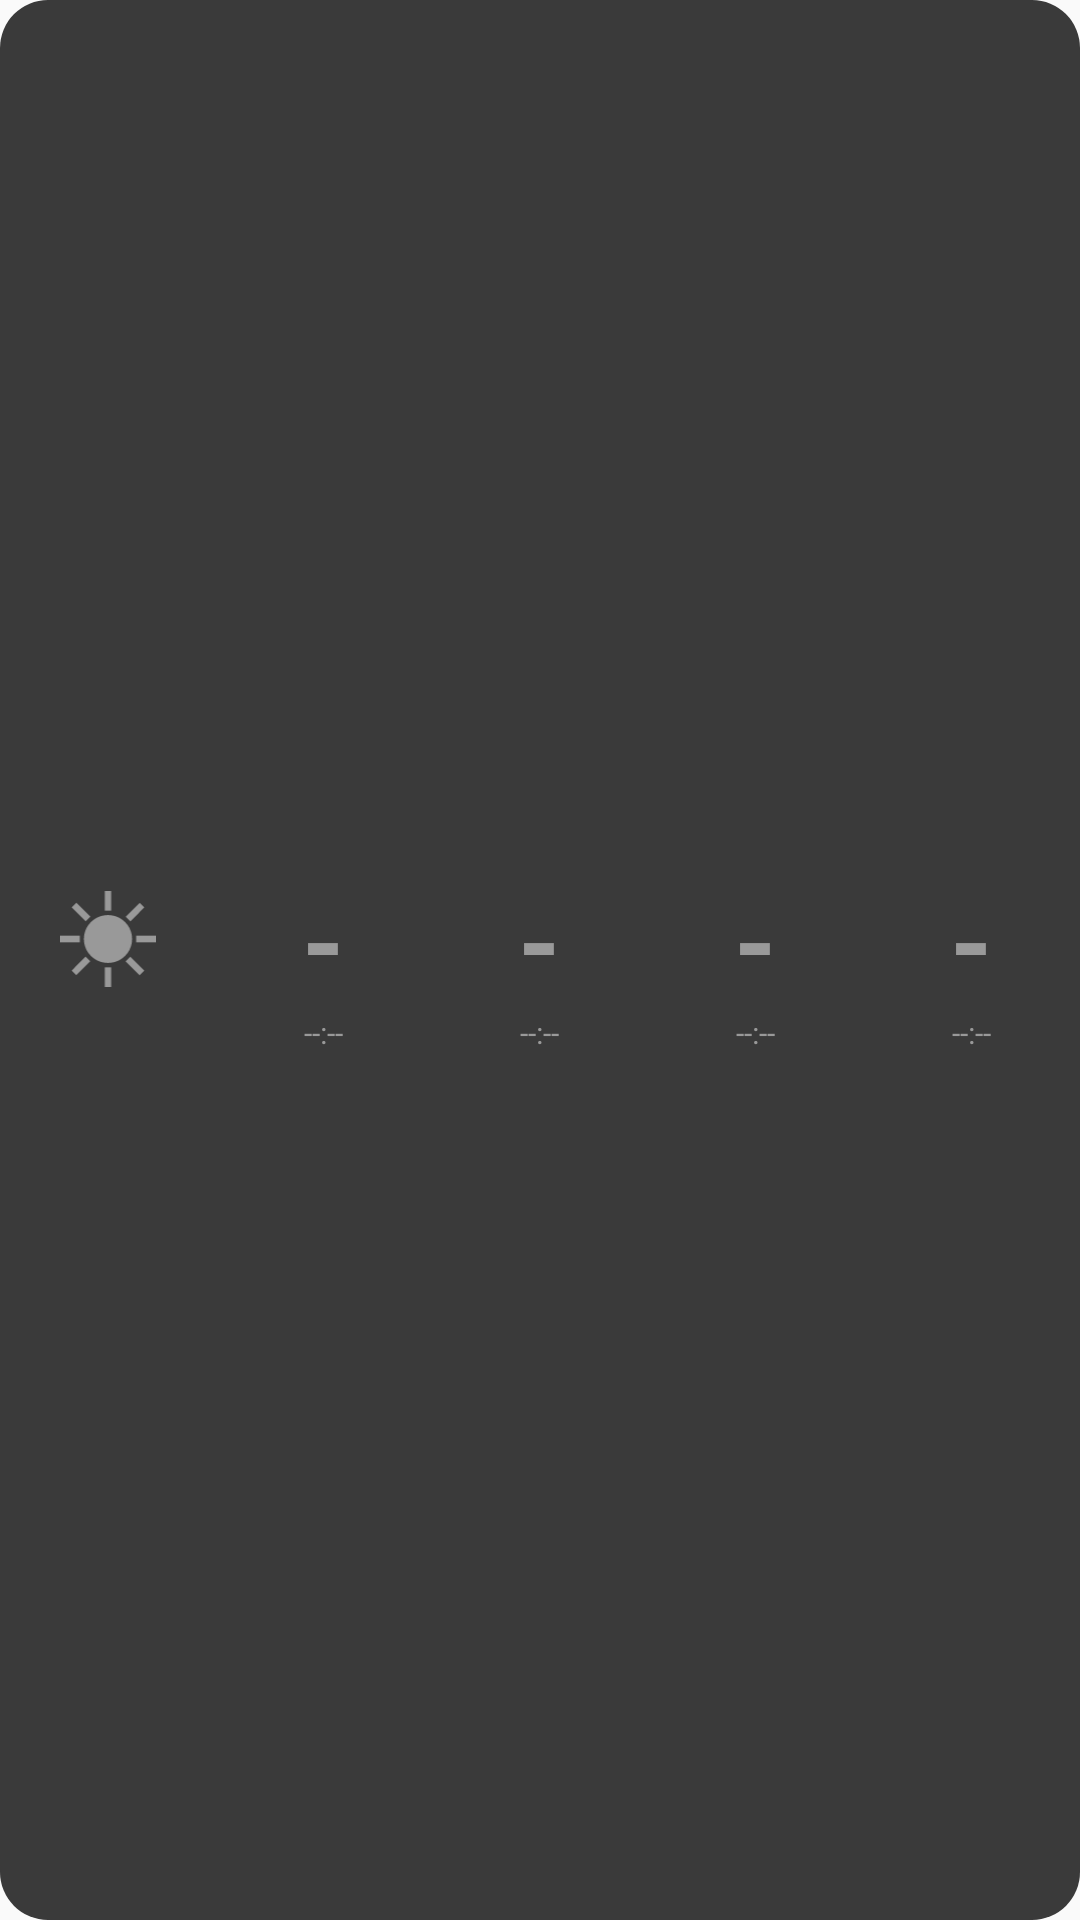

Icon bounding boxes for this 1080px×1920px phone screenshot, format (x1, y1, x2, y2):
sun: (60, 891, 156, 987)
